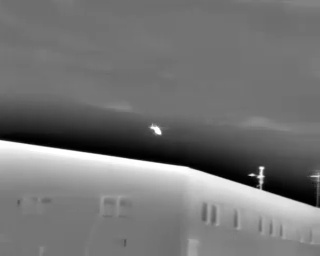HELICOPTER: (147, 120, 171, 140)
